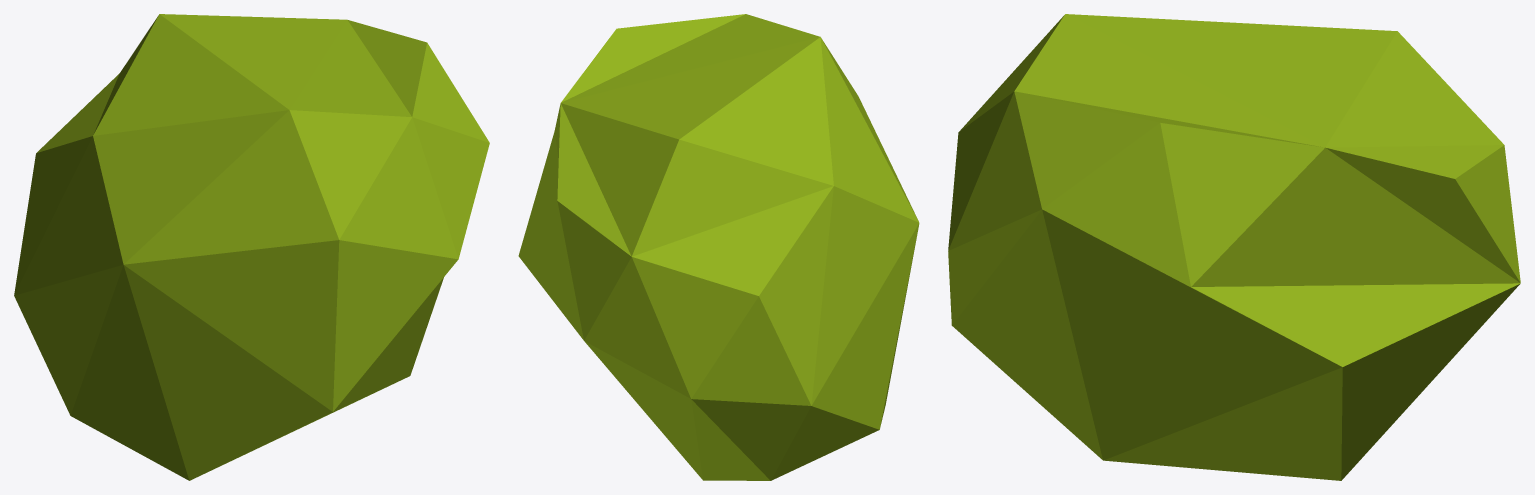
File: Vegetation_Modular_Tree_Foliage_Clump_Small_03.fbx
3 views of the same model, side by side, from view 1: azimuth 30°, elevation 25°; view 2: azimuth 150°, elevation 25°; view 3: azimuth 270°, elevation 25° (orthographic). The views are drawn at different scales.
Parts seen in each view (by area): view 1: Vegetation_Modular_Tree_Foliage_Clump_Small_03; view 2: Vegetation_Modular_Tree_Foliage_Clump_Small_03; view 3: Vegetation_Modular_Tree_Foliage_Clump_Small_03.
Boxes of the visible parts, bbox=[...] form: Vegetation_Modular_Tree_Foliage_Clump_Small_03: bbox=[14, 14, 489, 480]; Vegetation_Modular_Tree_Foliage_Clump_Small_03: bbox=[518, 14, 919, 480]; Vegetation_Modular_Tree_Foliage_Clump_Small_03: bbox=[948, 14, 1520, 480].
Size of the model in its own units: 22.06 by 22.13 by 24.86.
